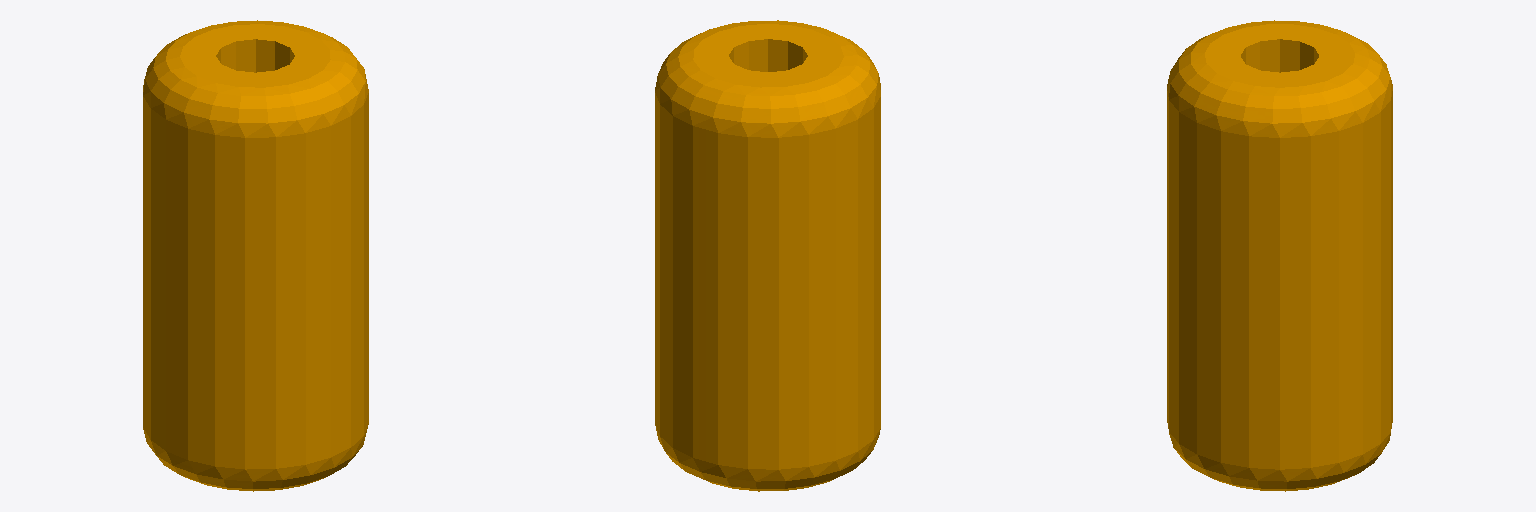
robot.urdf — 00062_socket:
<?xml version="1.0"?>
<robot name="00062_socket">
	<link name="00062_socket">
		<visual>
			<geometry>
				<mesh filename="../mesh/00062/asset_socket.obj"/>
			</geometry>
		</visual>
		<collision>
			<geometry>
				<mesh filename="../mesh/00062/asset_socket.obj"/>
			</geometry>
			<sdf resolution="256"/>
		</collision>
	</link>
</robot>

--- Render facts (derived) ---
The picture shows the robot from 3 angles, left to right: view 1: azimuth 30°, elevation 25°; view 2: azimuth 150°, elevation 25°; view 3: azimuth 270°, elevation 25°; orthographic projection.
Robot: 00062_socket — 1 links, 0 joints (none); root link 00062_socket; default pose: every joint at zero.
Links seen in each view (by area): view 1: 00062_socket; view 2: 00062_socket; view 3: 00062_socket.
Link boxes in pixels (box(x1,y1,x2,y2)): 00062_socket: box(143, 20, 368, 491); 00062_socket: box(655, 20, 880, 491); 00062_socket: box(1167, 20, 1392, 491).
Size in the robot's own frame: 0.025 by 0.025 by 0.0489 metres.
1 mesh visuals loaded from 1 distinct referenced files (1 OBJ).